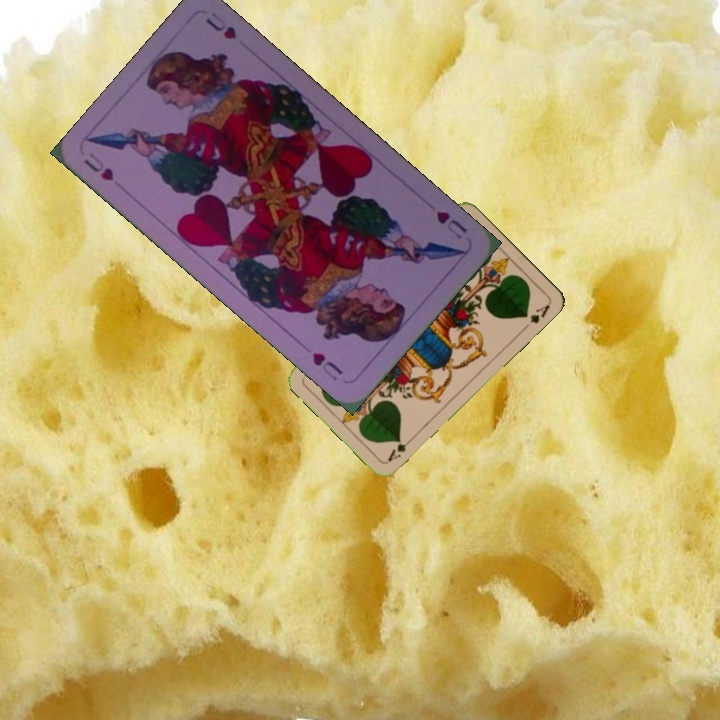GA: (383, 433, 417, 464)
HU: (432, 206, 470, 242), (80, 148, 117, 184)
